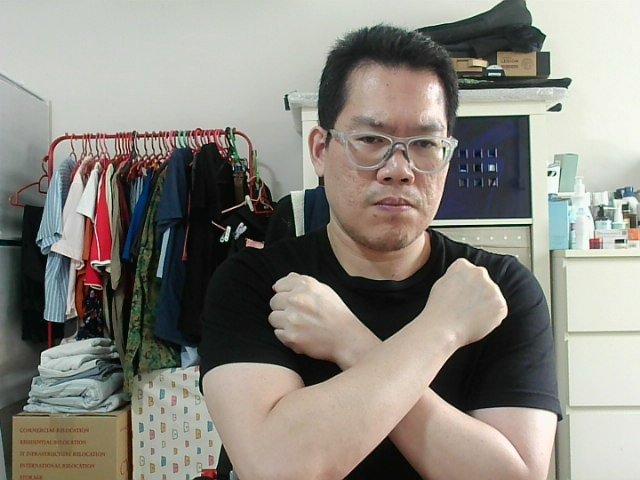love: (433, 264, 501, 327)
